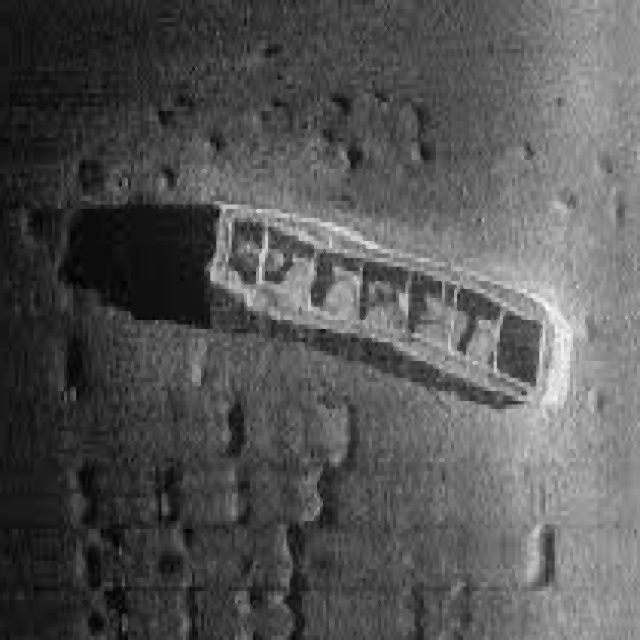Ship: (204, 187, 577, 429)
